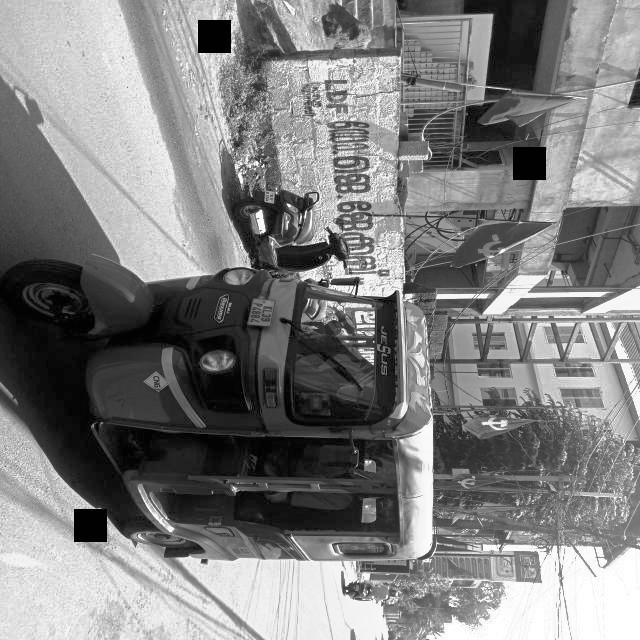Auto-Rickshaw: (12, 250, 433, 581)
